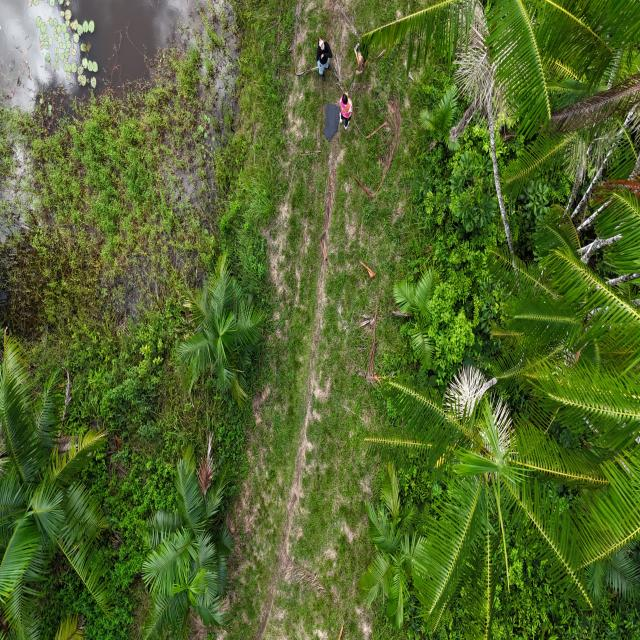vegetation: (355, 1, 639, 637)
